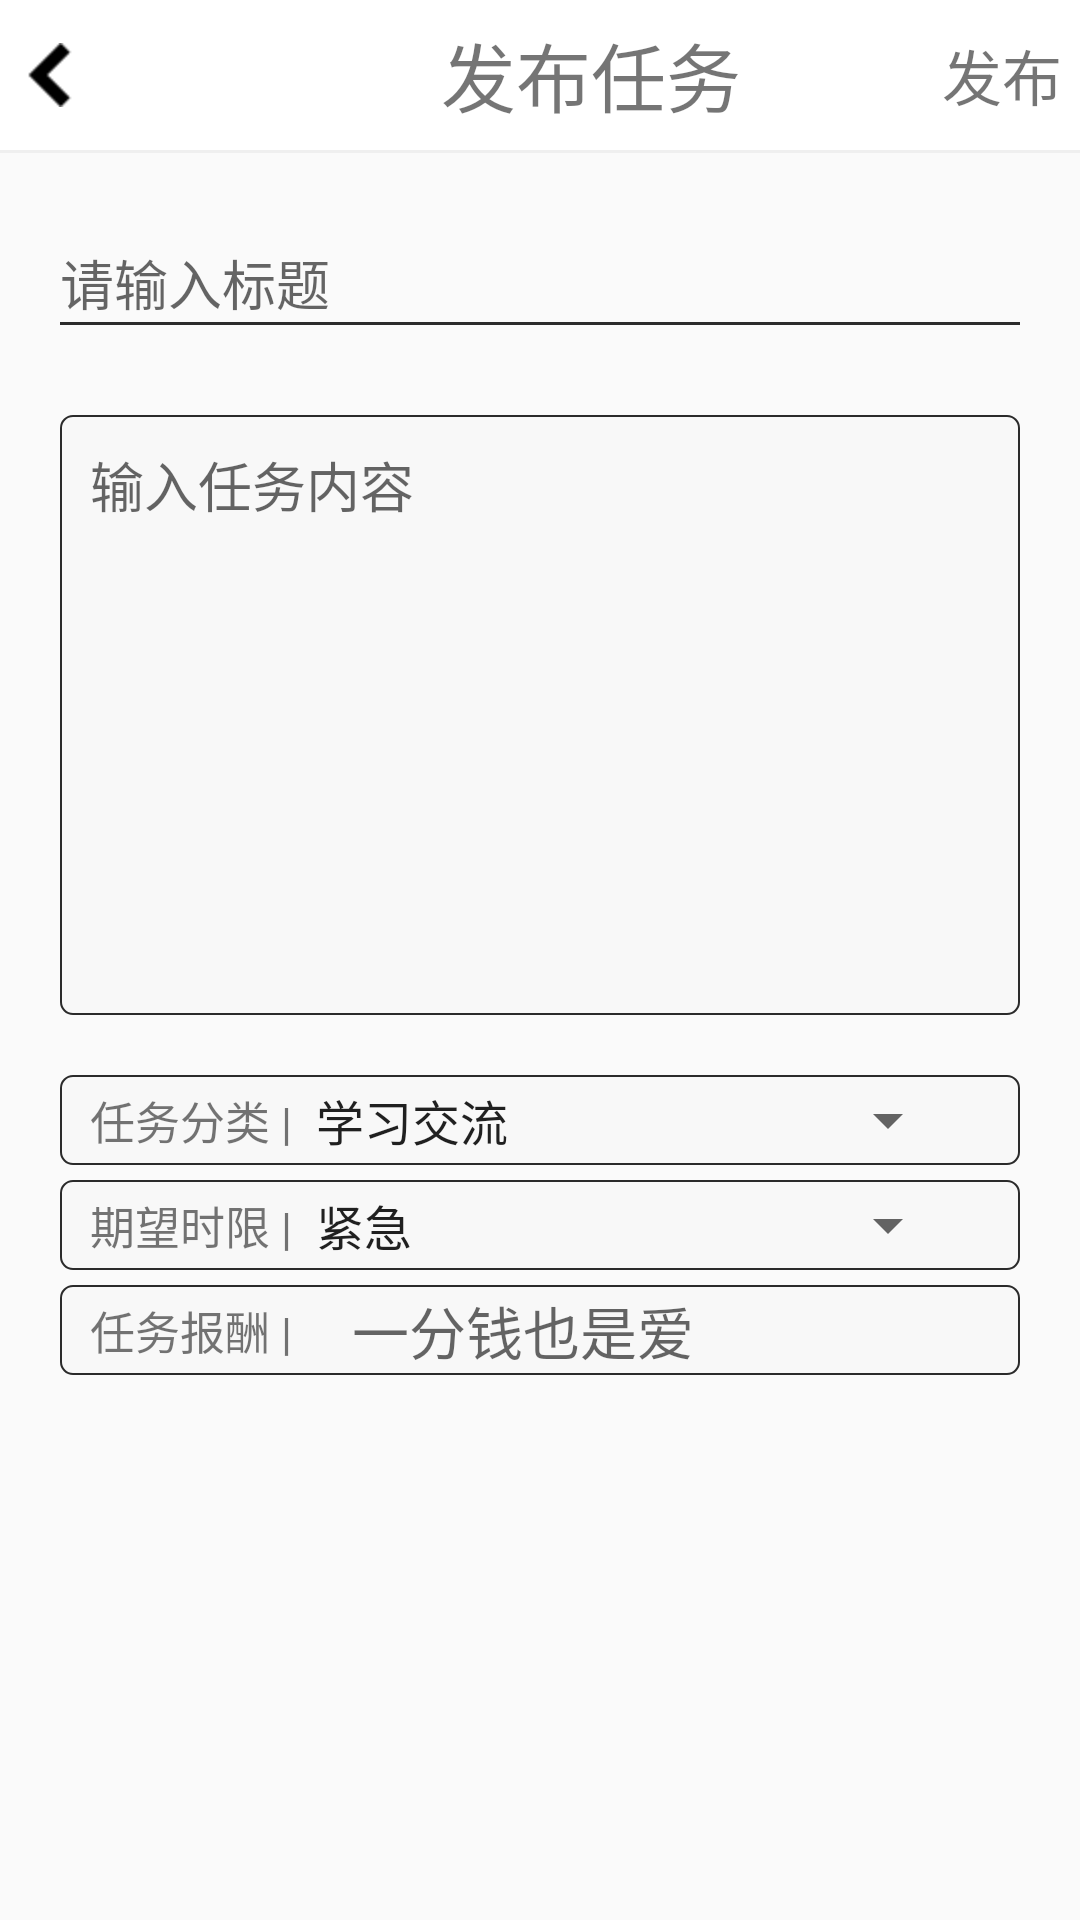

Locate icon controls on the screen. Image size 1080 × 1920, boxes as (x1, y1, x2, y2).
back: (28, 43, 71, 107)
